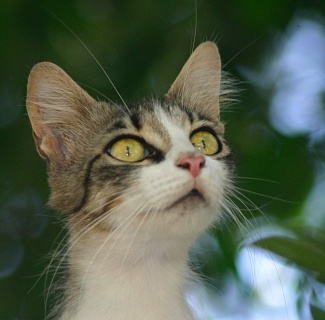Cat: (19, 0, 302, 319)
